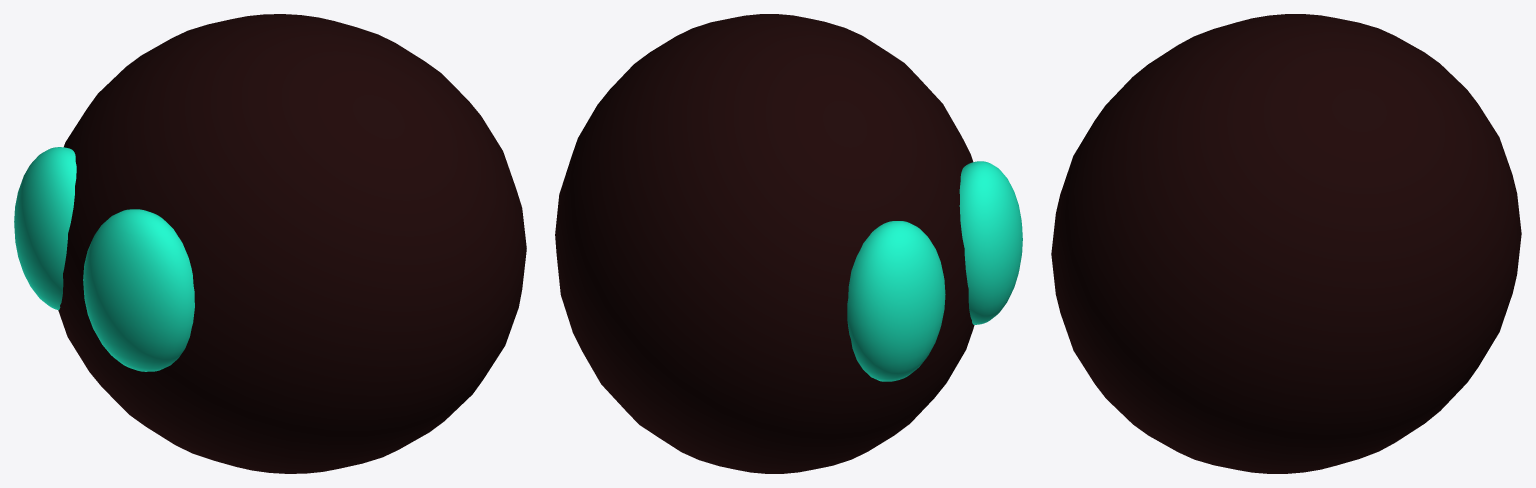
File: wisp_v5.FBX
3 views of the same model, side by side, from view 1: azimuth 30°, elevation 25°; view 2: azimuth 150°, elevation 25°; view 3: azimuth 270°, elevation 25° (orthographic).
Visible parts, largest first — view 1: Sphere112; view 2: Sphere112; view 3: Sphere112.
Part boxes in pixels (x1,y1,x2,y2): Sphere112: (14, 14, 526, 473); Sphere112: (555, 14, 1022, 473); Sphere112: (1051, 14, 1521, 473).
Bounding box in the file's own units: 74.26 × 71.67 × 73.07.
